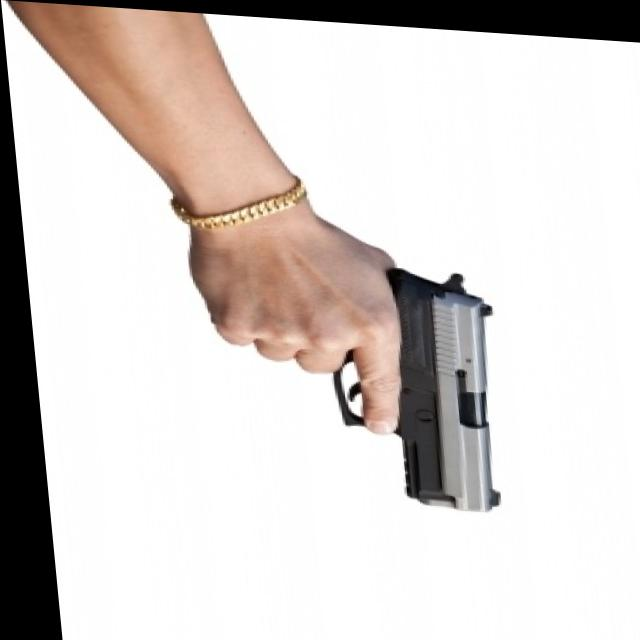handgun: (172, 248, 511, 508)
